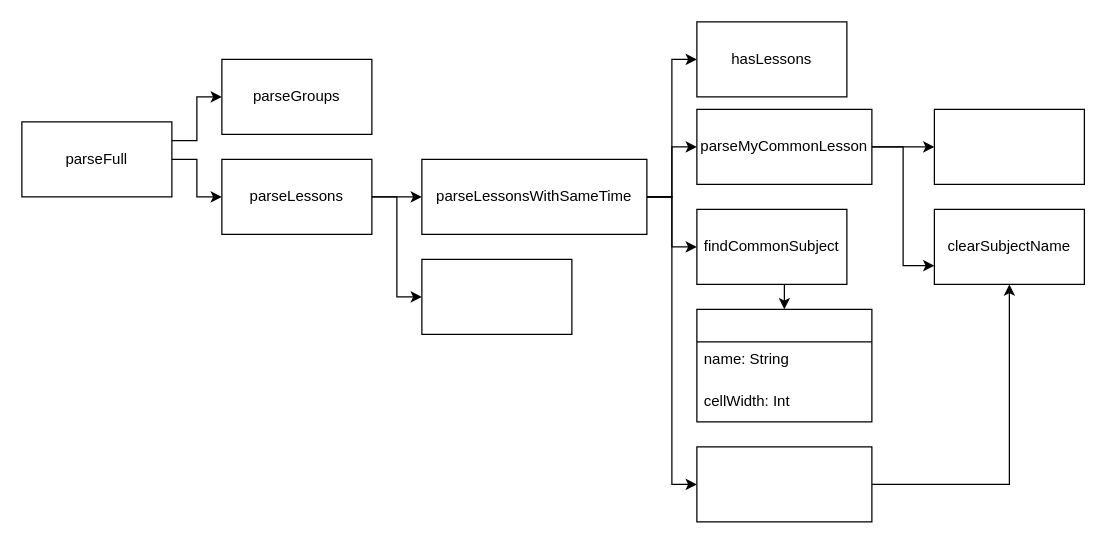
This 1106x544 diagram has some shape labels left out. The shapes that lost their labels are listed below. From the top down, each one's box as (x1, y1, x2, y2) in pixels, then its label:
(933, 108, 1084, 184): parseLessonTime
(421, 258, 572, 334): parseRowDate
(696, 308, 872, 422): CommonSubject
(696, 446, 872, 522): parseMyGroupLessons
